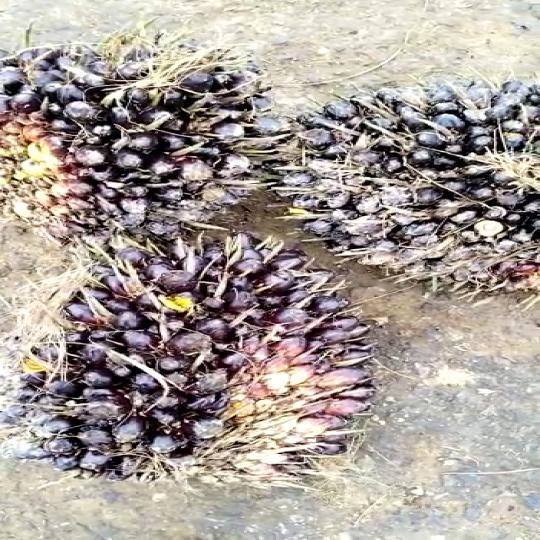mentah: (0, 230, 399, 491), (252, 75, 540, 286), (0, 36, 252, 249)
